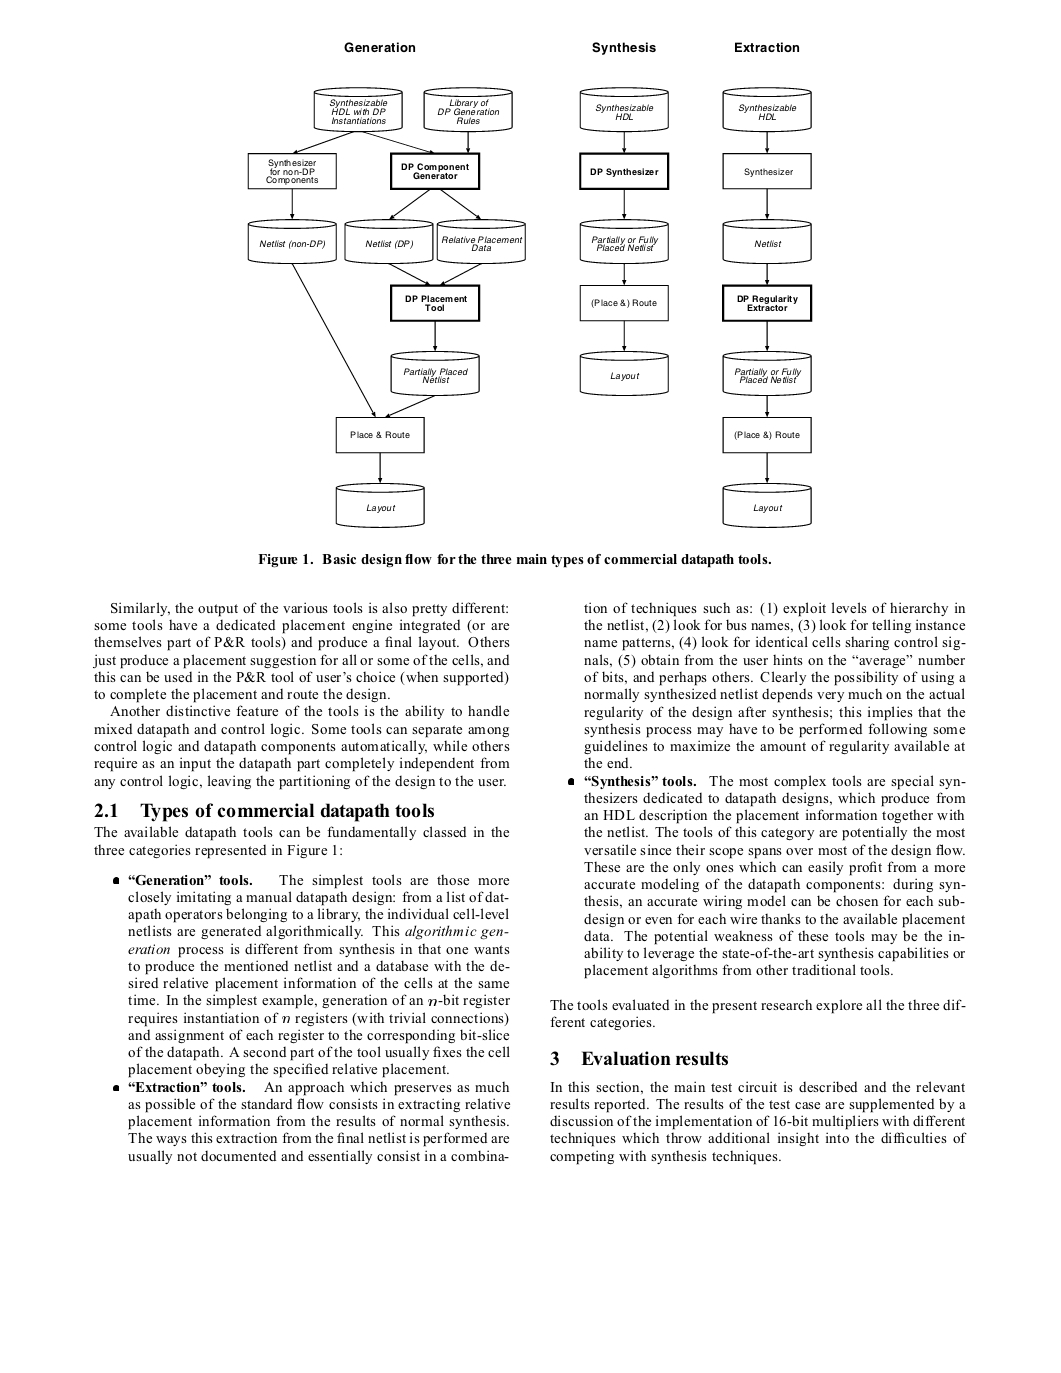figure: (247, 85, 525, 528), (580, 85, 812, 528)
formula: (584, 757, 631, 768)
